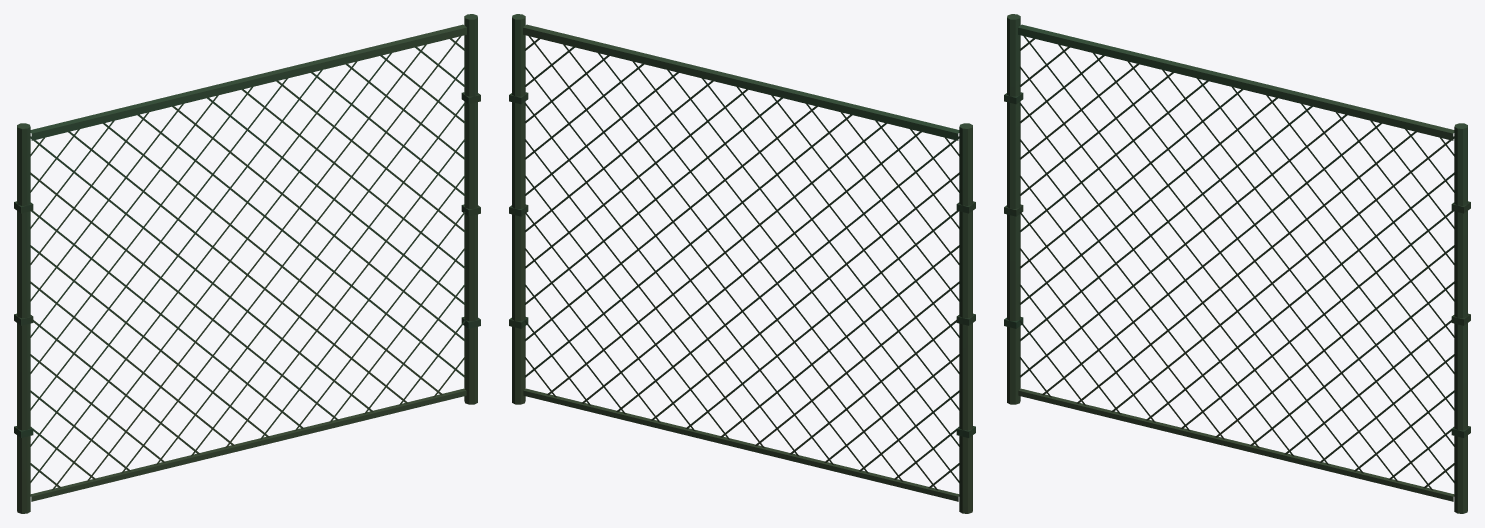
File: fence.chainlink.green.glb
3 views of the same model, side by side, from view 1: azimuth 30°, elevation 25°; view 2: azimuth 150°, elevation 25°; view 3: azimuth 330°, elevation 25° (orthographic).
Visible parts, largest first — view 1: fence_chainlink_green; view 2: fence_chainlink_green; view 3: fence_chainlink_green.
Part boxes in pixels (box(x1,y1,x2,y2)): fence_chainlink_green: box(14, 14, 480, 513); fence_chainlink_green: box(509, 14, 975, 513); fence_chainlink_green: box(1004, 14, 1470, 513).
Size of what is drawn, in the model's own units: 3 by 2.4 by 0.08.
